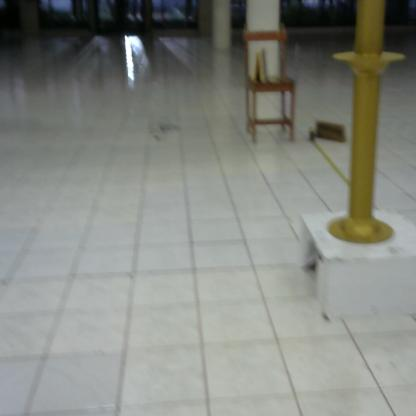pole: (327, 1, 409, 249)
